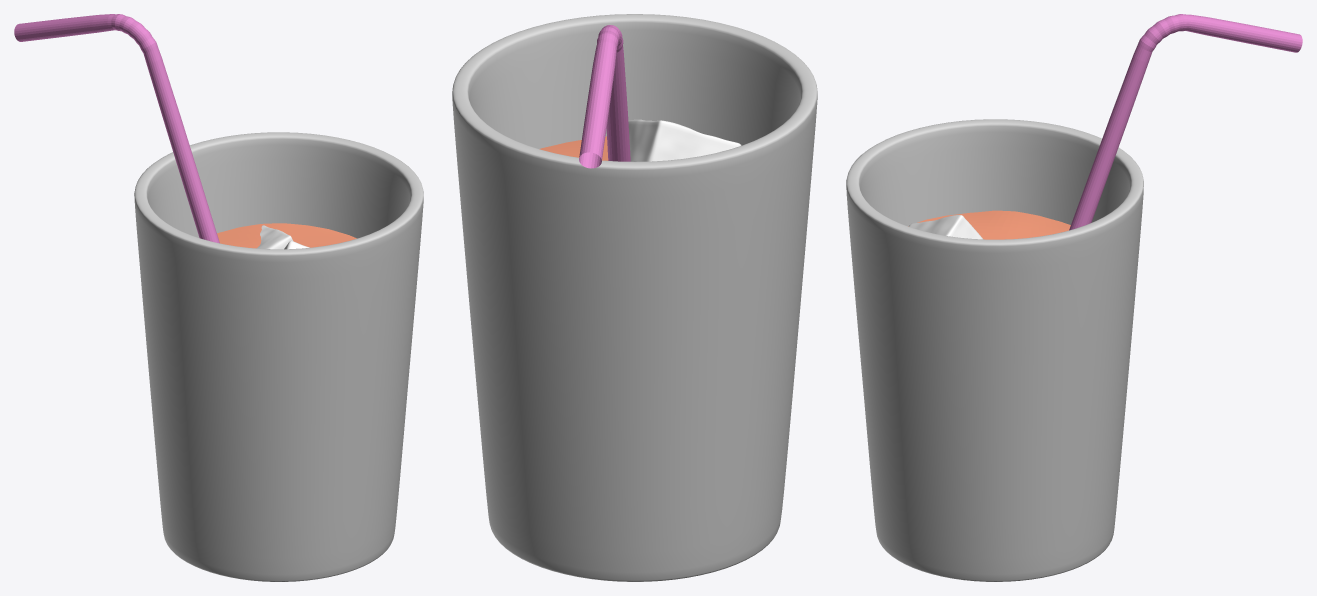
The model's file is glass.fbx.
3 views of the same model, side by side, from view 1: azimuth 30°, elevation 25°; view 2: azimuth 150°, elevation 25°; view 3: azimuth 270°, elevation 25° (orthographic). The views are drawn at different scales.
Parts seen in each view (by area): view 1: glass, Vert.004, water, Cube.001; view 2: glass, Vert.004, Cube.003, water; view 3: glass, Vert.004, water, Cube.003.
Part boxes in pixels (x1,y1,x2,y2): glass: (134,132,423,581); Vert.004: (14,14,219,243); water: (217,223,356,248); Cube.001: (257,225,292,249); glass: (452,14,817,581); Vert.004: (579,25,630,168); Cube.003: (628,119,741,161); water: (539,136,608,160); glass: (846,119,1143,581); Vert.004: (1069,14,1302,230); water: (908,210,1070,239); Cube.003: (909,215,982,239).
Size of the model in its own units: 44.39 by 79.67 by 68.07.
